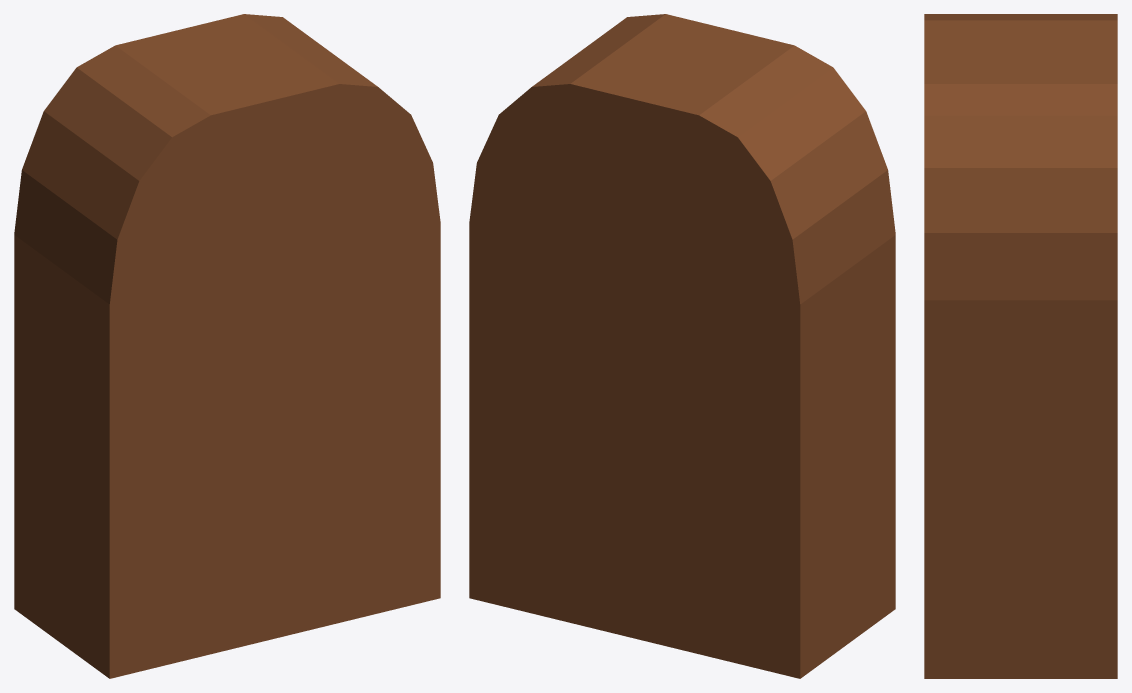
File: Window_inside.fbx
3 views of the same model, side by side, from view 1: azimuth 30°, elevation 25°; view 2: azimuth 150°, elevation 25°; view 3: azimuth 270°, elevation 25° (orthographic).
Parts seen in each view (by area): view 1: Cube.008; view 2: Cube.008; view 3: Cube.008.
Boxes of the visible parts, x1,y1,x2,y2 form: Cube.008: (14, 14, 440, 678); Cube.008: (469, 14, 895, 678); Cube.008: (924, 14, 1117, 678).
Size of the model in its own units: 1.8 by 2.8 by 0.9.
